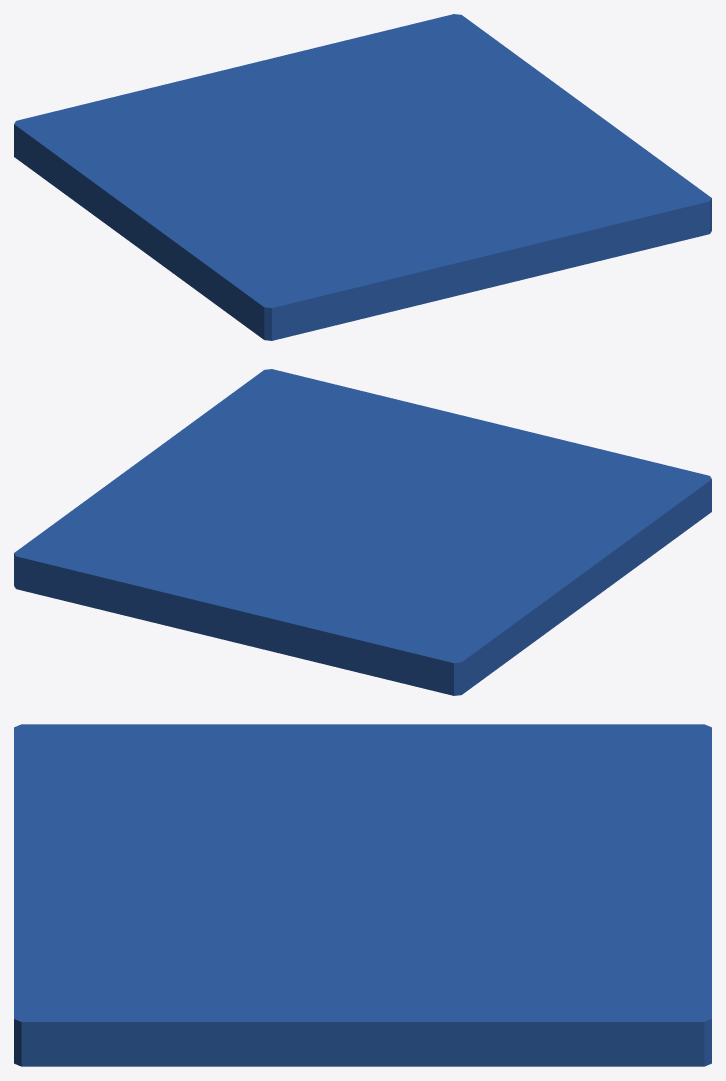
File: mcp_manhole_square_01.FBX
3 renders of one model, top to bottom at view 1: azimuth 30°, elevation 25°; view 2: azimuth 150°, elevation 25°; view 3: azimuth 270°, elevation 25°, orthographic. The views are drawn at different scales.
Parts seen in each view (by area): view 1: mcp_manhole_square_01; view 2: mcp_manhole_square_01; view 3: mcp_manhole_square_01.
Part boxes in pixels (x1,y1,x2,y2): mcp_manhole_square_01: (14,14,711,340); mcp_manhole_square_01: (14,369,711,695); mcp_manhole_square_01: (14,724,711,1066).
Bounding box in the file's own units: 90.9 × 6.36 × 90.
